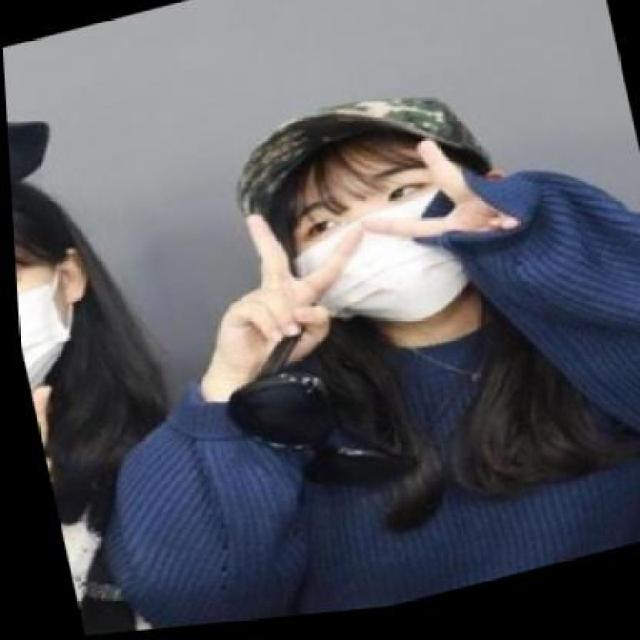hat: (212, 77, 490, 240)
